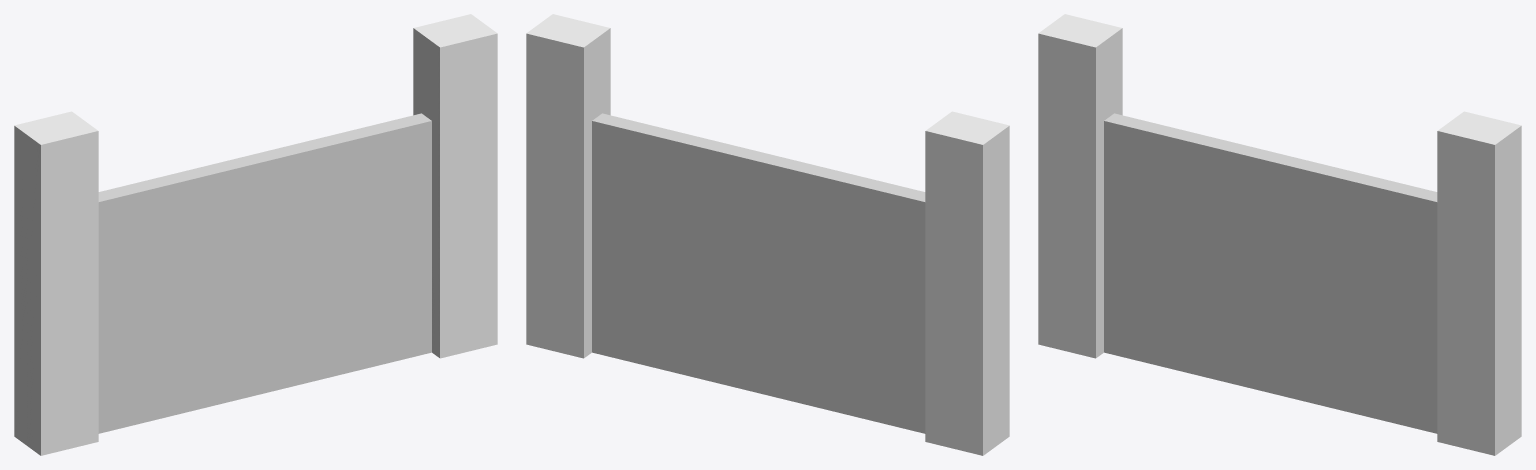
The model's file is Wall_Pool.fbx.
The picture shows the model from 3 angles, left to right: view 1: azimuth 30°, elevation 25°; view 2: azimuth 150°, elevation 25°; view 3: azimuth 330°, elevation 25°; orthographic projection.
Parts seen in each view (by area): view 1: Wall_Pool; view 2: Wall_Pool; view 3: Wall_Pool.
Part boxes in pixels (left/top/right/bottom): Wall_Pool: left=14, top=14, right=497, bottom=455; Wall_Pool: left=526, top=14, right=1009, bottom=455; Wall_Pool: left=1038, top=14, right=1521, bottom=455.
Size of the model in its own units: 158 by 103 by 16.
